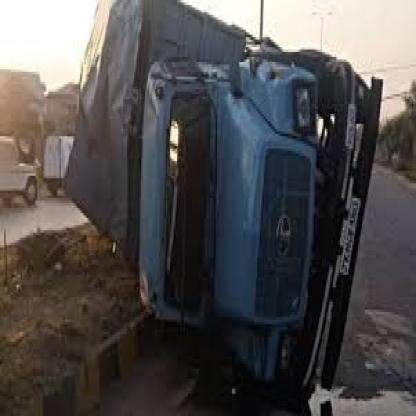accident: (74, 0, 388, 399)
